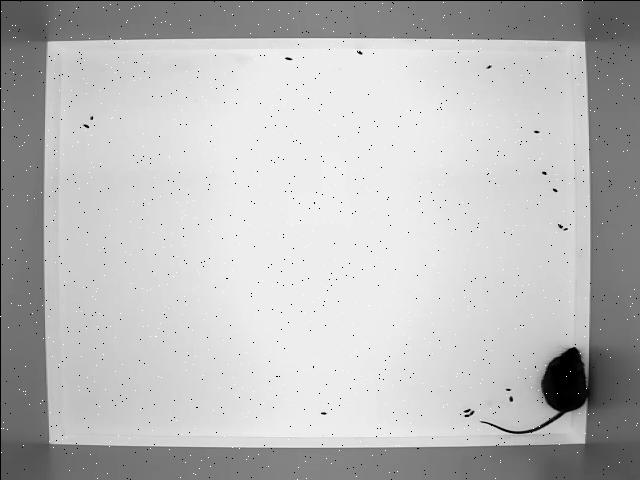Tikus: (482, 345, 590, 435)
